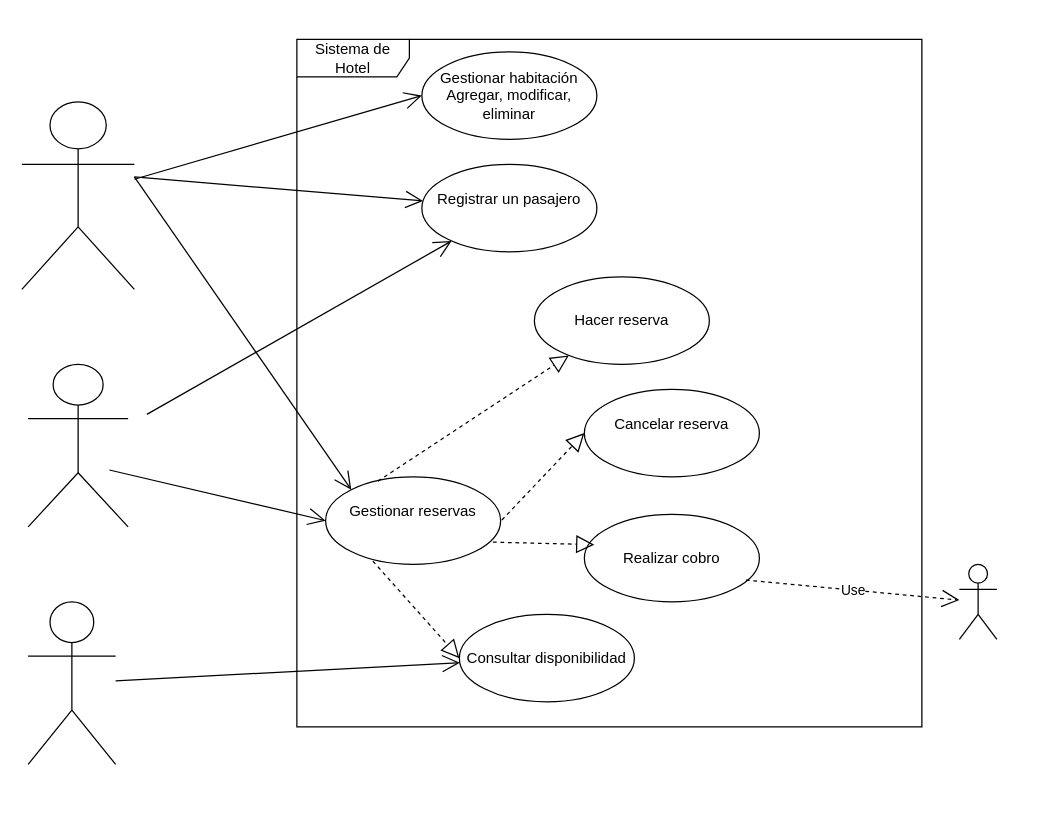
The diagram is 1058 pixels wide and 830 high, and some of its shapes have lost their labels. Each missing label, with the centre of its shape:
"Administrador" goes at point (77, 195).
"Pasajero" goes at point (71, 682).
"Recepcionista" goes at point (77, 445).
"Sistema de cobro" goes at point (977, 601).
